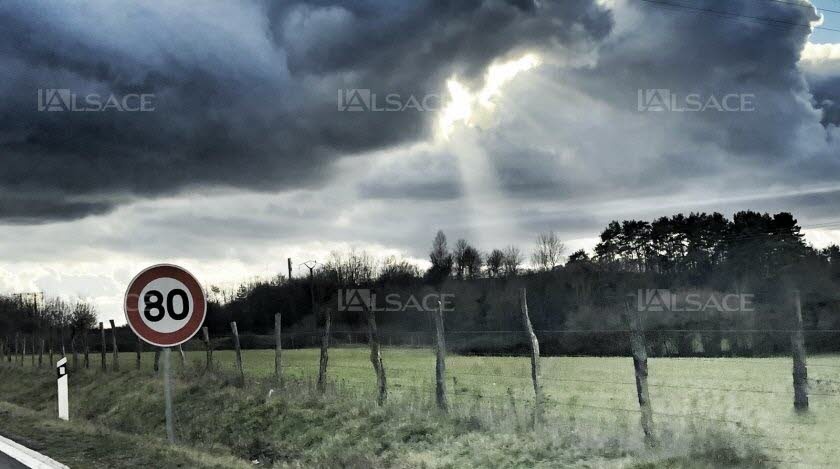Speed_limit_80km: (122, 266, 207, 346)
